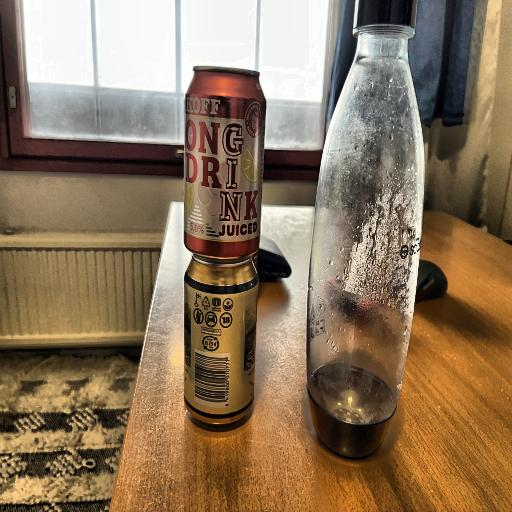koff: (173, 51, 270, 255)
sandels: (172, 258, 272, 436)
